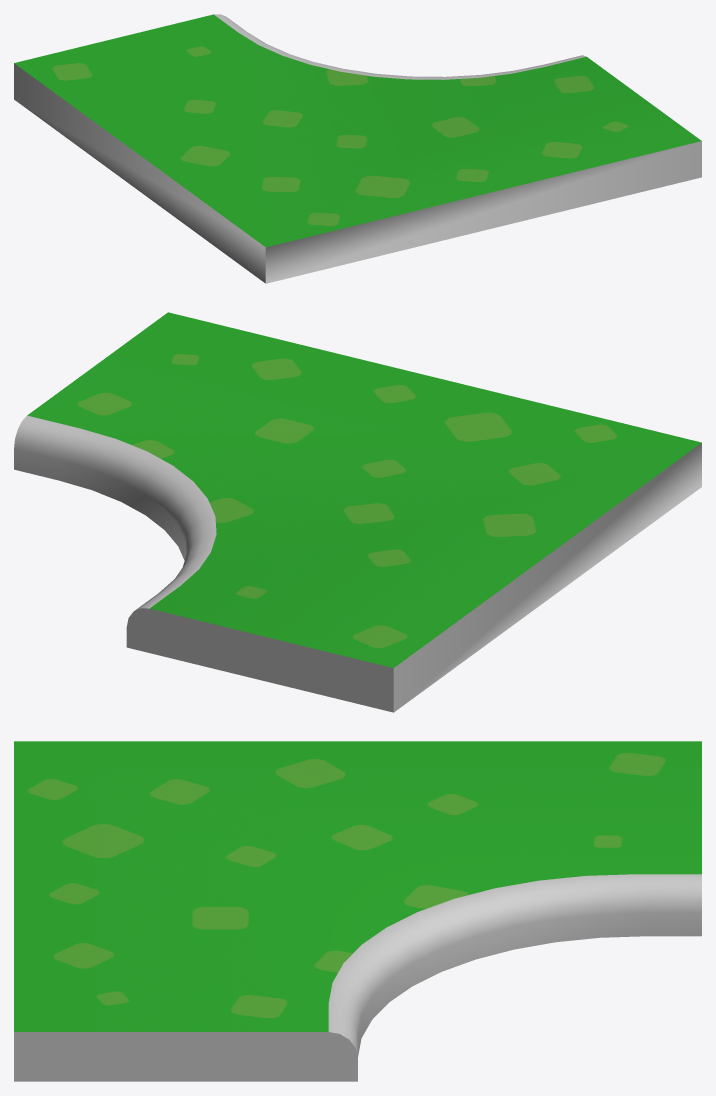
The model's file is GrassFloor_InnerCorner_2.fbx.
3 views of the same model, one above another, from view 1: azimuth 30°, elevation 25°; view 2: azimuth 150°, elevation 25°; view 3: azimuth 270°, elevation 25° (orthographic). The views are drawn at different scales.
Parts seen in each view (by area): view 1: GrassFloor_InnerCorner_2; view 2: GrassFloor_InnerCorner_2; view 3: GrassFloor_InnerCorner_2.
Boxes of the visible parts, bbox=[...] form: GrassFloor_InnerCorner_2: bbox=[14, 14, 701, 283]; GrassFloor_InnerCorner_2: bbox=[14, 312, 701, 712]; GrassFloor_InnerCorner_2: bbox=[14, 741, 701, 1081].
Bounding box in the file's own units: 4 × 0.3187 × 4.
